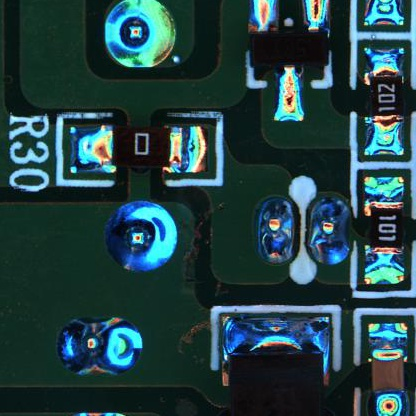spot: (100, 197, 185, 279), (52, 311, 152, 380), (303, 191, 358, 275), (249, 194, 300, 271)
